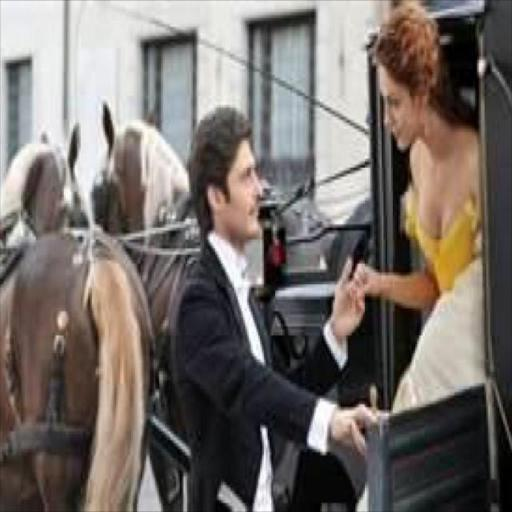horse: (100, 93, 334, 511), (0, 119, 156, 511)
